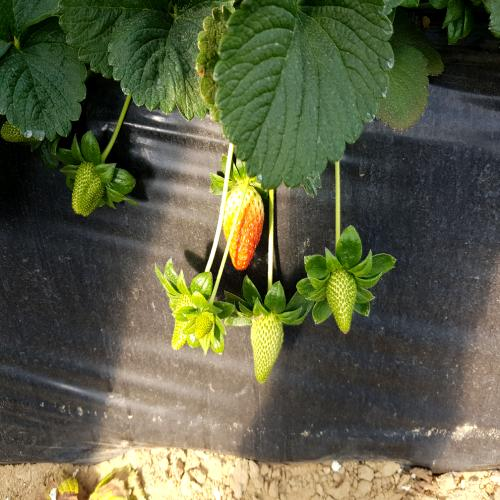partially-ripe: (220, 185, 269, 276)
